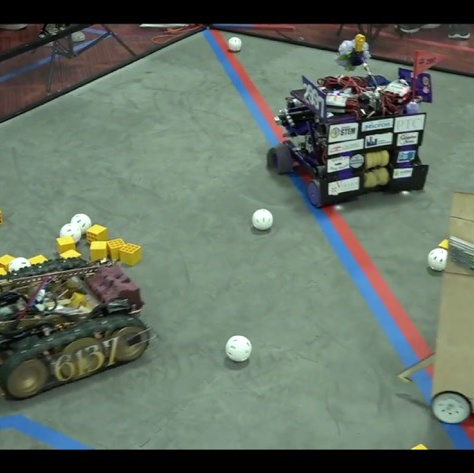robot: (262, 32, 447, 211), (0, 253, 160, 404), (394, 189, 474, 429)
